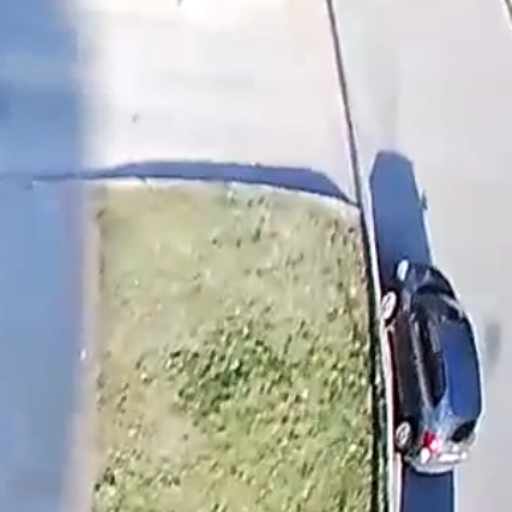Car: (378, 259, 477, 475)
